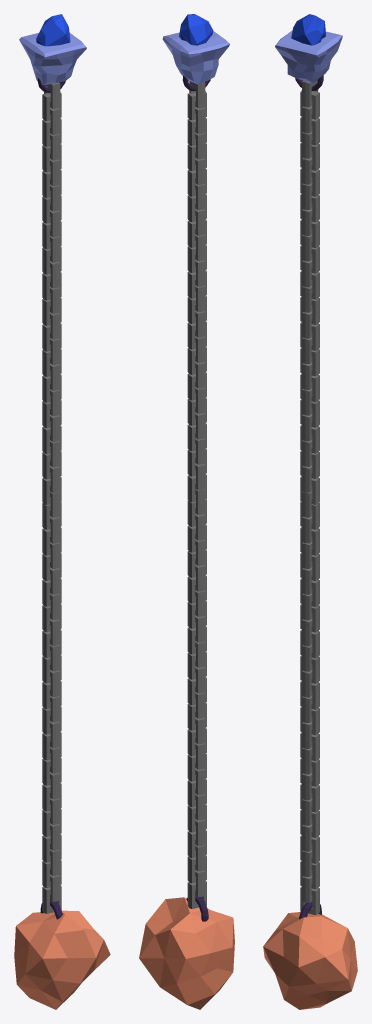
File: SaarekeketjuWMat.glb
3 renders of one model, left to right at view 1: azimuth 30°, elevation 25°; view 2: azimuth 210°, elevation 25°; view 3: azimuth 330°, elevation 25°, orthographic.
Visible parts, largest first — view 1: chain, Icosphere, saareke.001, kelluke.002; view 2: chain, Icosphere, saareke.001, kelluke.002; view 3: chain, Icosphere, saareke.001, kelluke.002.
Part boxes in pixels (x1=…): chain: x1=42, y1=82, x2=61, y2=913; Icosphere: x1=14, y1=910, x2=110, y2=1009; saareke.001: x1=19, y1=33, x2=86, y2=85; kelluke.002: x1=36, y1=14, x2=70, y2=46; chain: x1=187, y1=81, x2=206, y2=908; Icosphere: x1=139, y1=897, x2=234, y2=1009; saareke.001: x1=162, y1=31, x2=229, y2=84; kelluke.002: x1=179, y1=14, x2=213, y2=45; chain: x1=300, y1=80, x2=319, y2=915; Icosphere: x1=263, y1=912, x2=357, y2=1009; saareke.001: x1=275, y1=30, x2=342, y2=82; kelluke.002: x1=291, y1=14, x2=325, y2=45.
Size of the model in its own units: 11.16 by 126 by 10.32.
